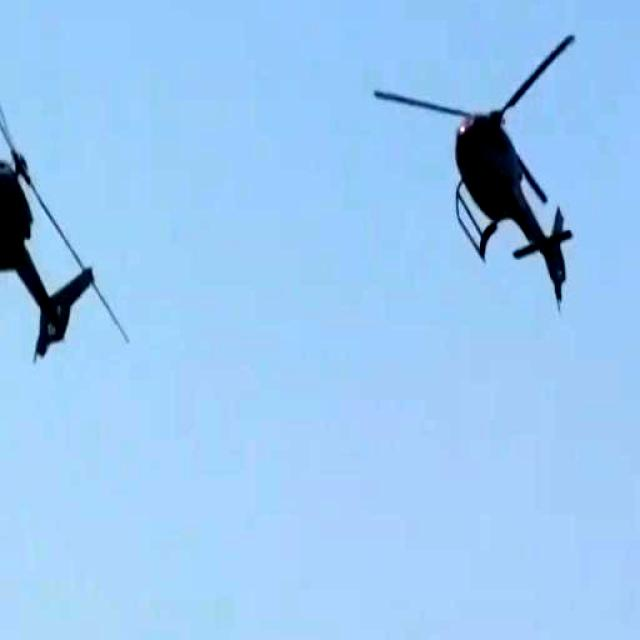drone: (360, 0, 622, 349), (0, 16, 152, 412)
